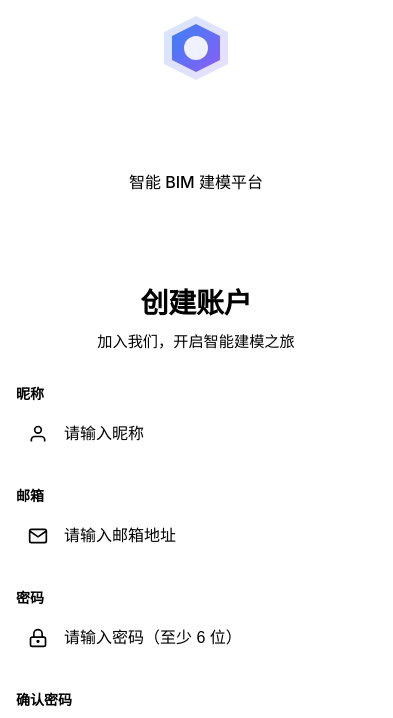
Test: RegisterView › validates password confirmation
Type "password123" into the password field labelled "密码". click: x=212, y=638
box: [48,615,376,661]
(page scrolled)
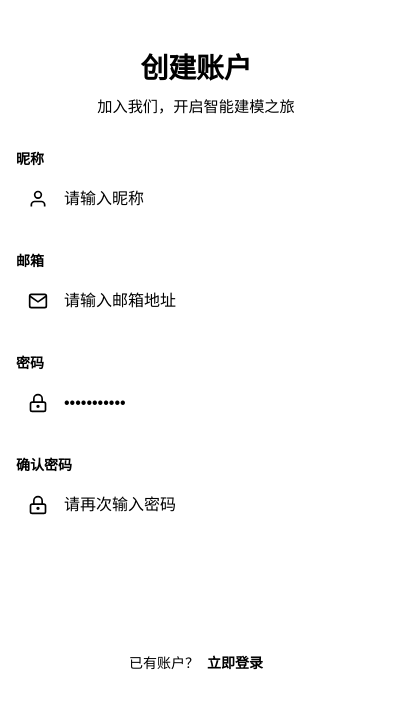
Type "different-password" into the password field with id "confirmPassword". click: x=212, y=505
box: [48,482,376,528]
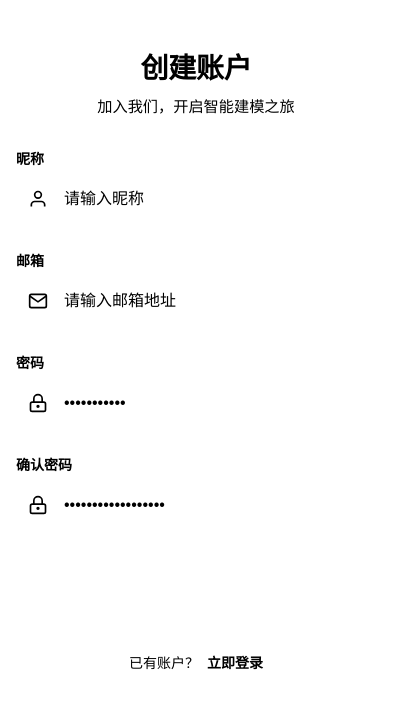
Leave the password field with id "confirmPassword", box [48,482,376,528]
(page scrolled)
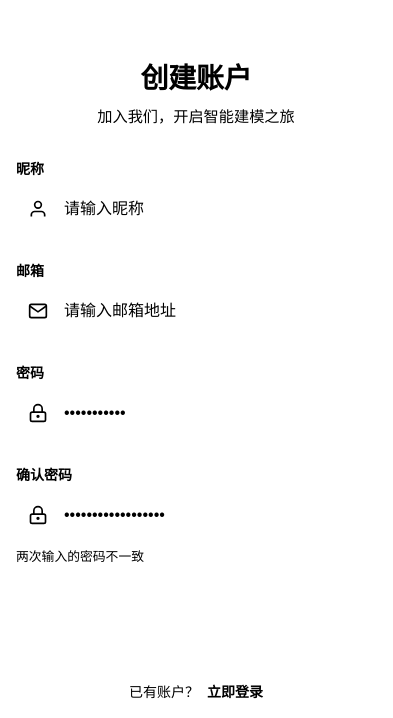
expect the text "两次输入的密码不一致" is shown: met, box [16,549,144,564]
